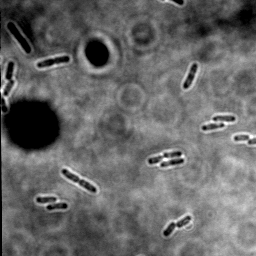Dividing: (60, 168, 99, 195), (35, 53, 72, 70), (146, 150, 183, 166)
Rod: (5, 20, 33, 56), (183, 62, 200, 91), (160, 157, 186, 170), (200, 121, 226, 133), (3, 79, 16, 98), (45, 202, 69, 212), (162, 221, 176, 238), (5, 60, 16, 81), (175, 215, 192, 228), (36, 195, 58, 205), (211, 115, 238, 123), (233, 133, 251, 143)
